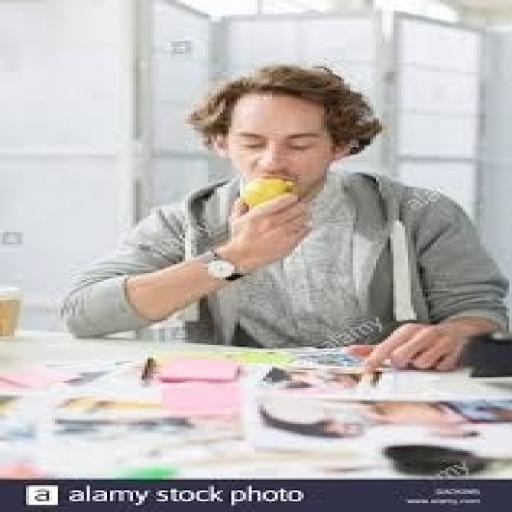eating: (58, 61, 509, 374)
